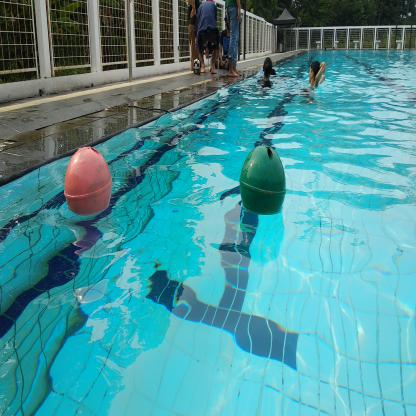green_buoy: (235, 137, 293, 222)
red_buoy: (62, 142, 116, 219)
